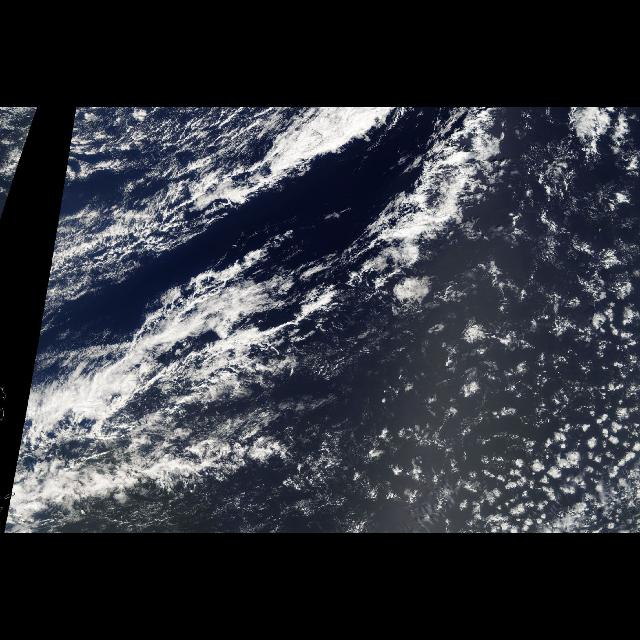Fish: (19, 222, 333, 446)
Flower: (399, 264, 639, 534)
Gravel: (392, 115, 638, 502)
